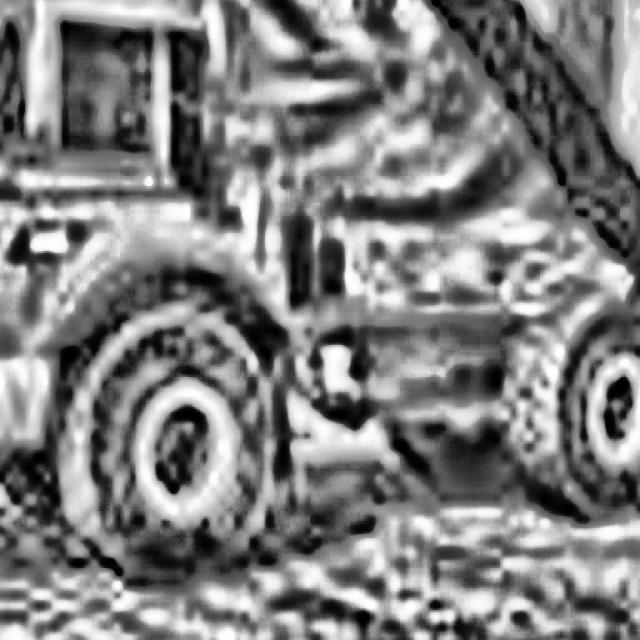dump_truck: (0, 0, 640, 585)
